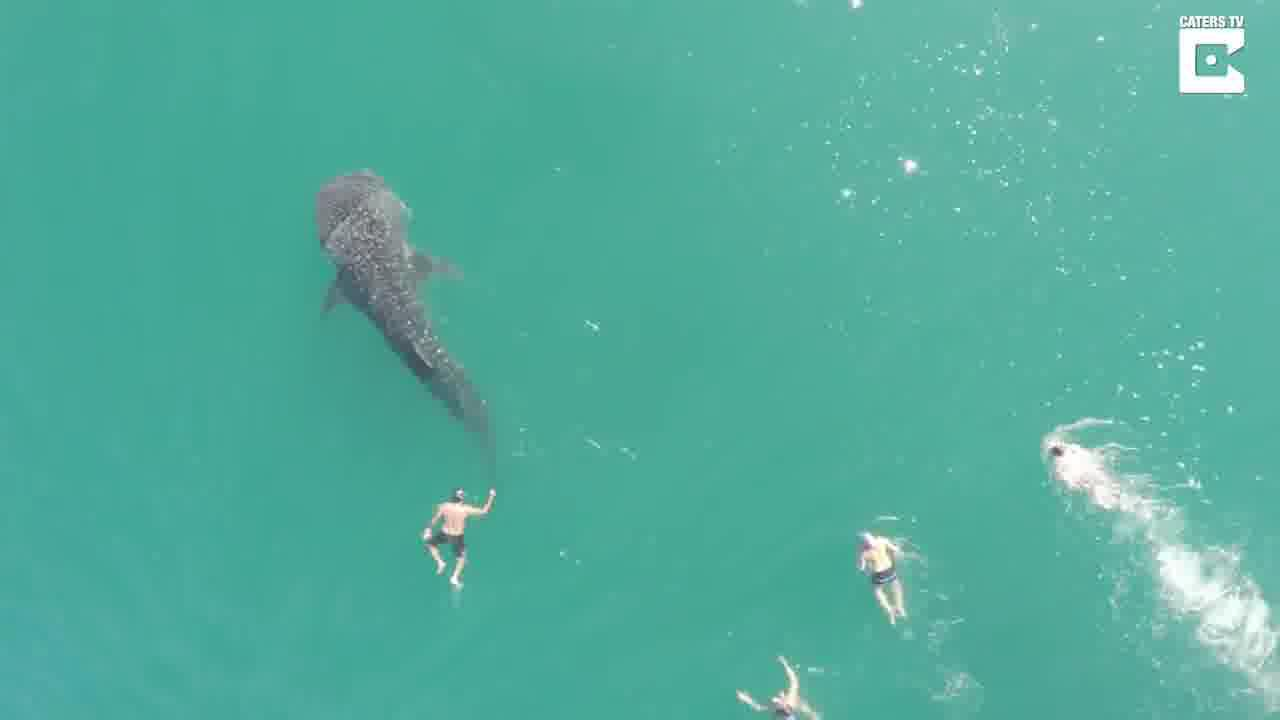swimmer: (406, 479, 494, 595), (846, 531, 917, 638), (728, 640, 809, 718)
